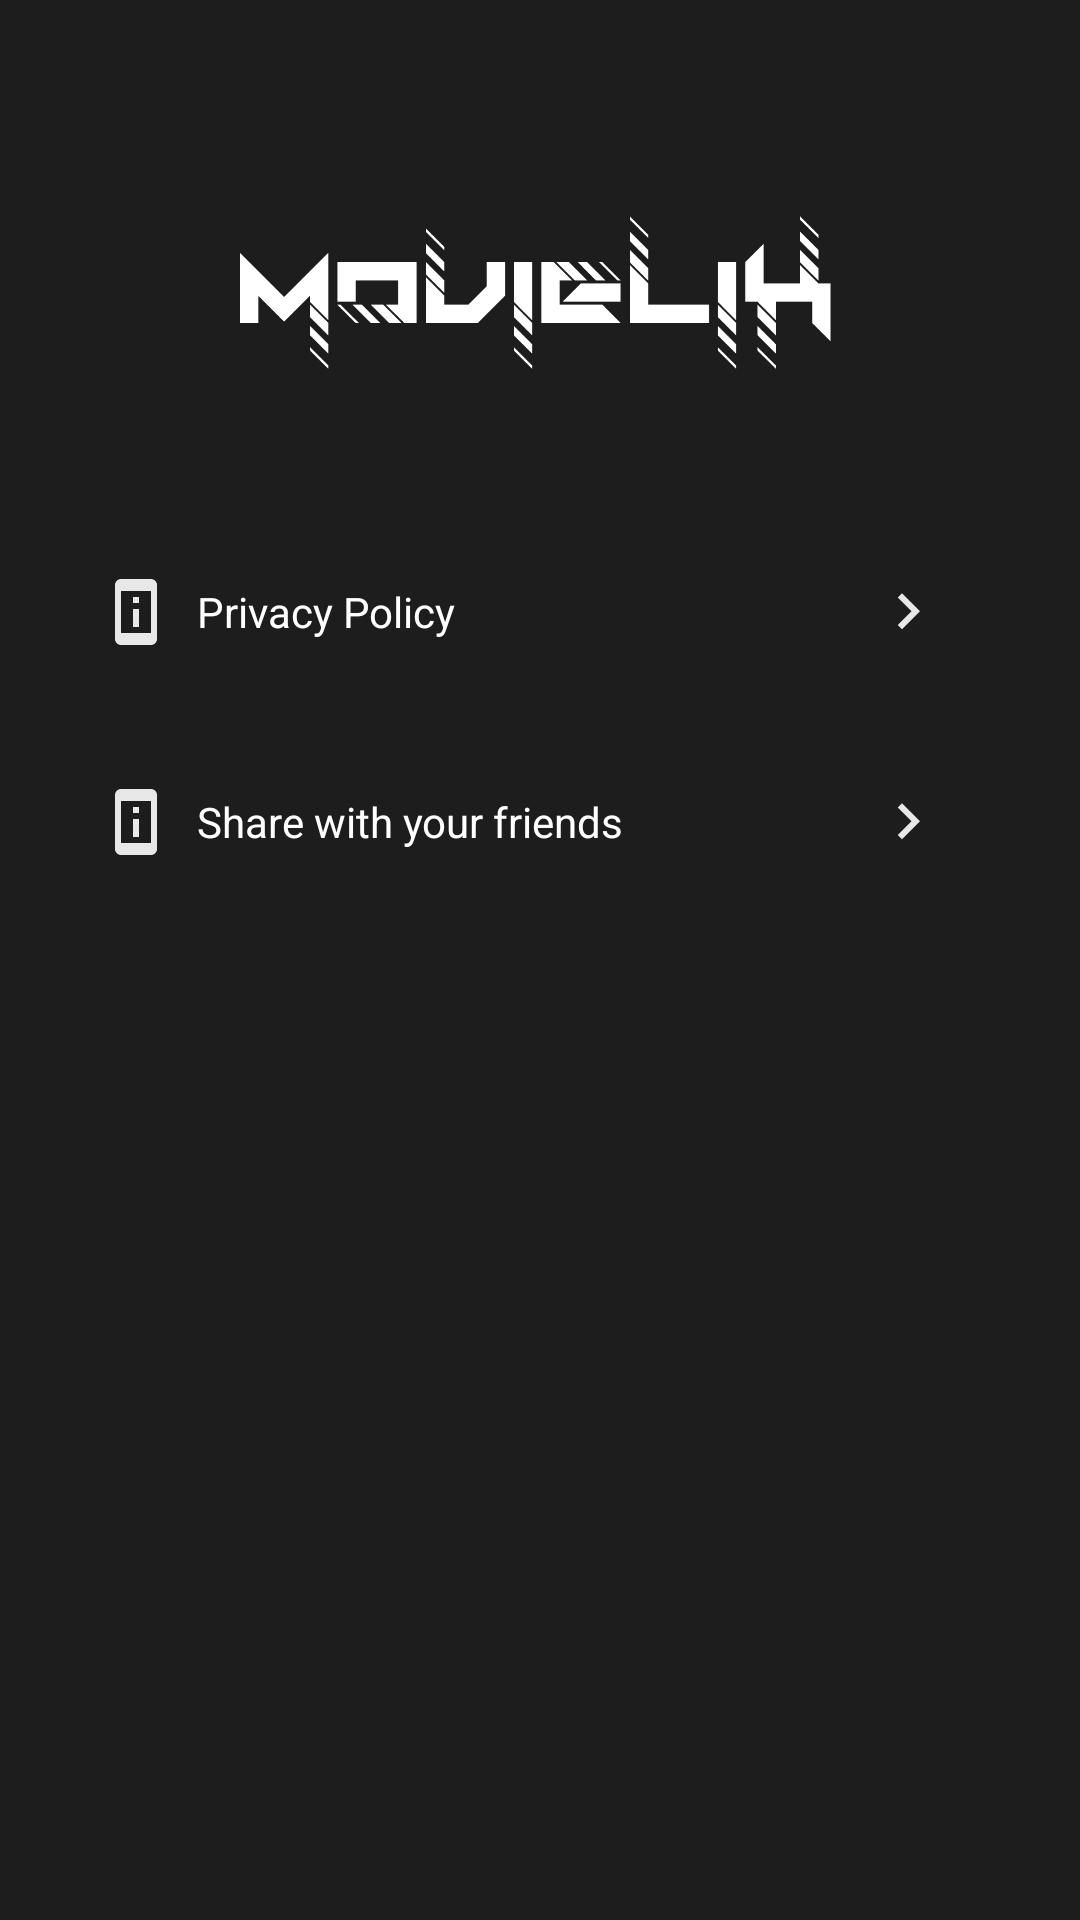

Named icons in this screenshot (1080 x 1920) and their centers, (x,y):
arrow right: (909,611), (909,821)
privacy information: (136,612), (136,822)
